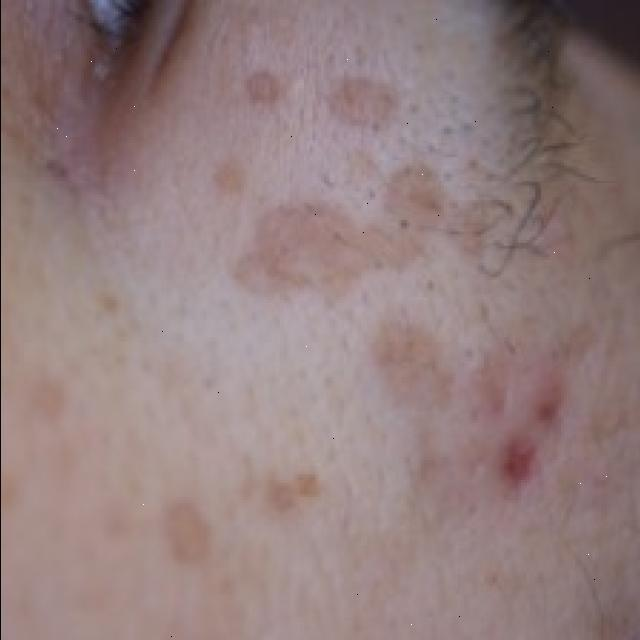Acne: (126, 58, 563, 580)
